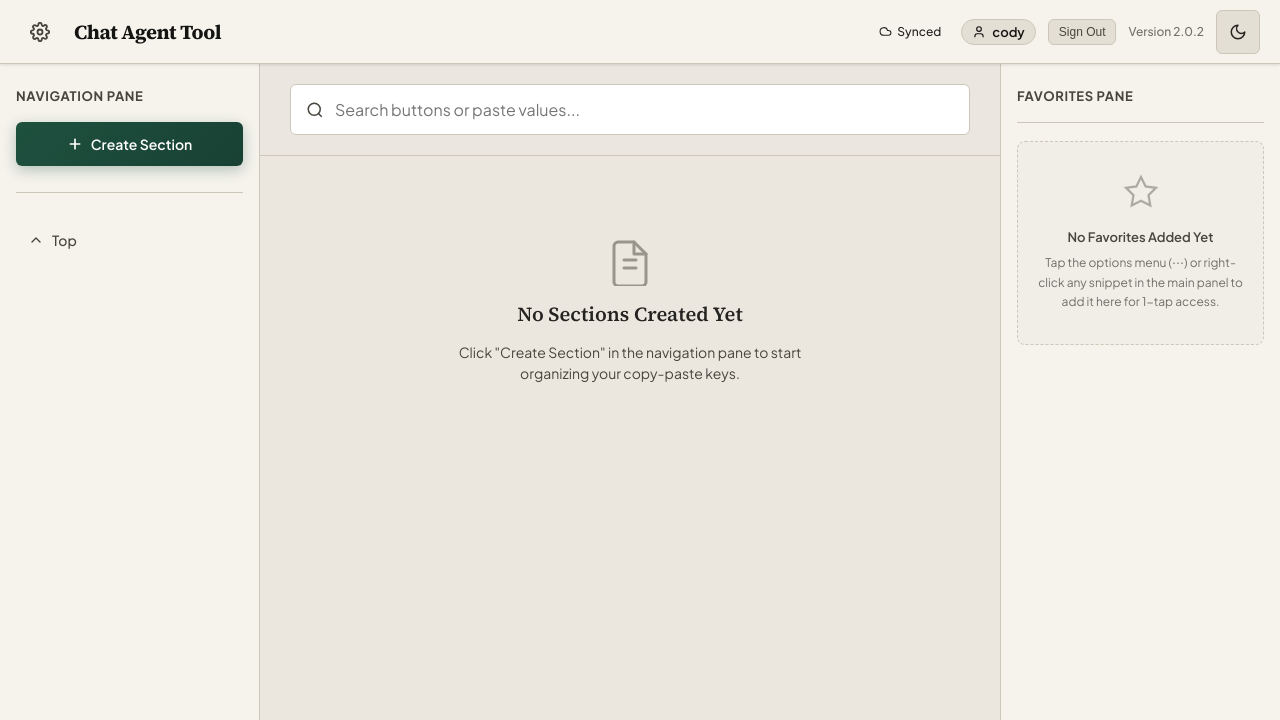
Test: Chat Agent Tool - Integration Tests › adds a new button to a section
Note: Create a section first
Click the button "Create Section": click(130, 144) [16,122,243,166]
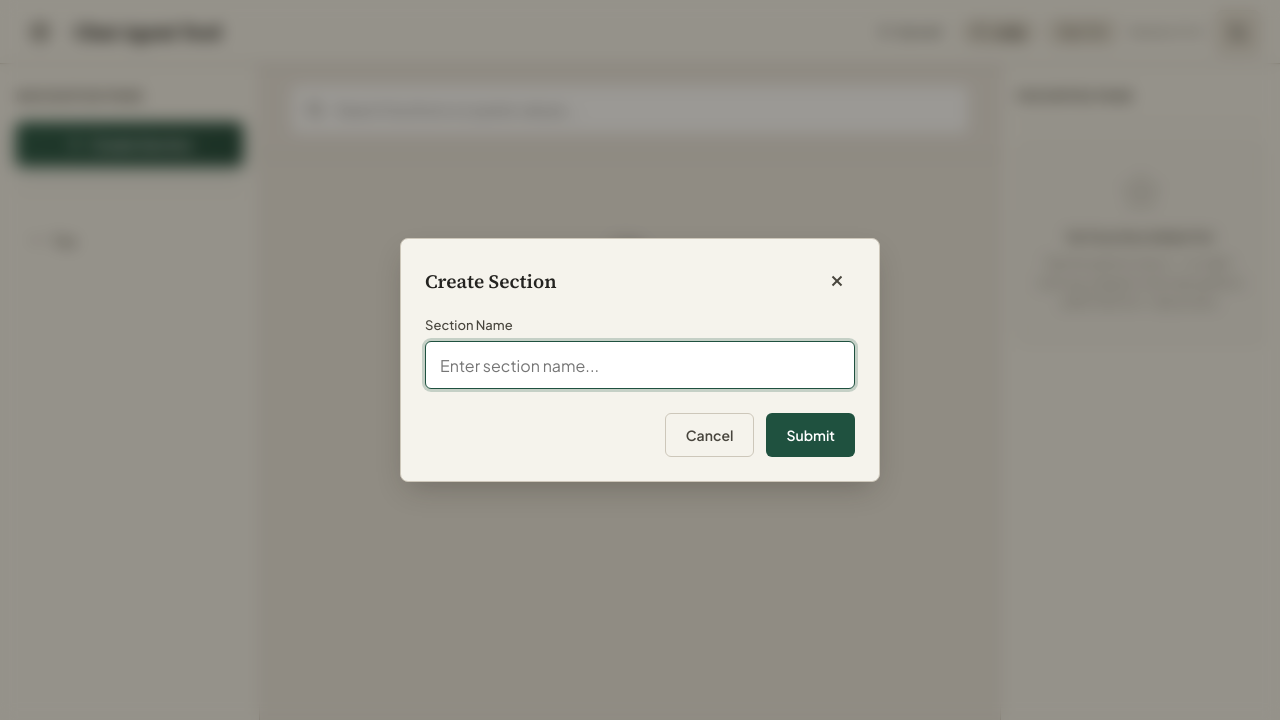
In the field labelled "Section Name": (640, 365) [425,341,855,389], type "Greetings"
Click the button "Submit": click(811, 435) [766,413,855,457]
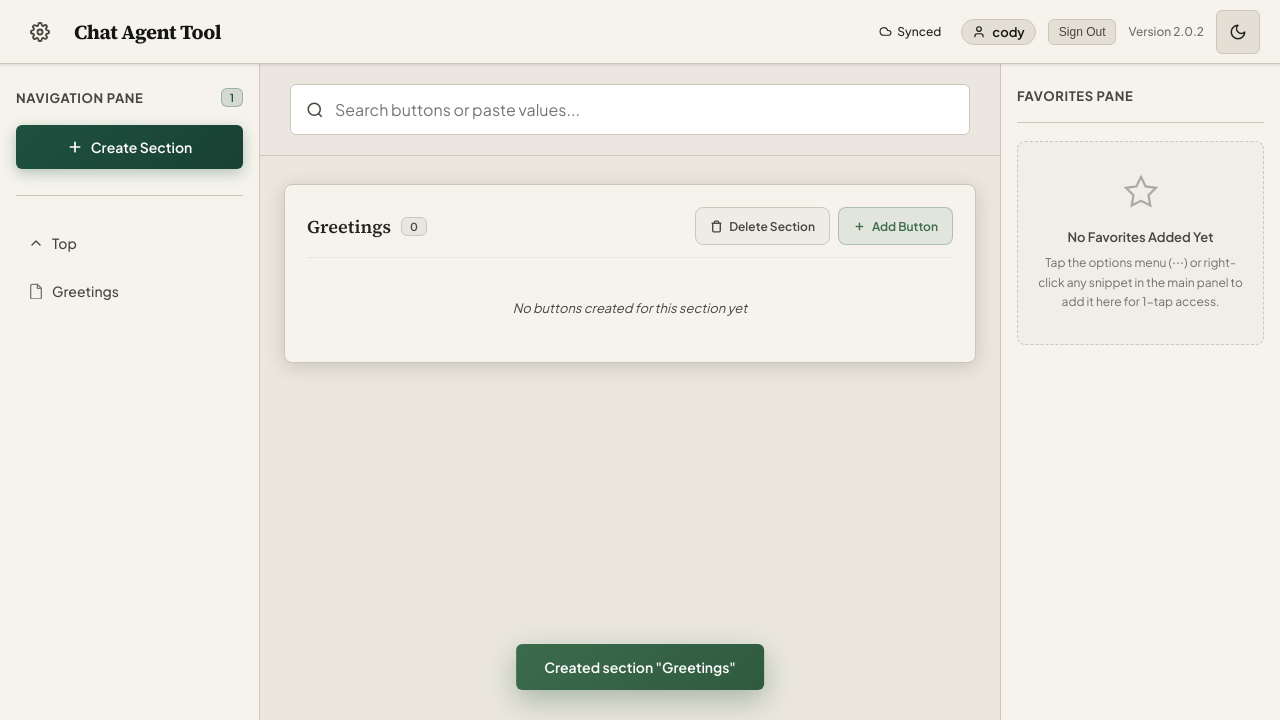
Note: Verify section exists and click "Add Button" inside section
Click the button "Add Button": click(895, 226) [838,207,953,245]
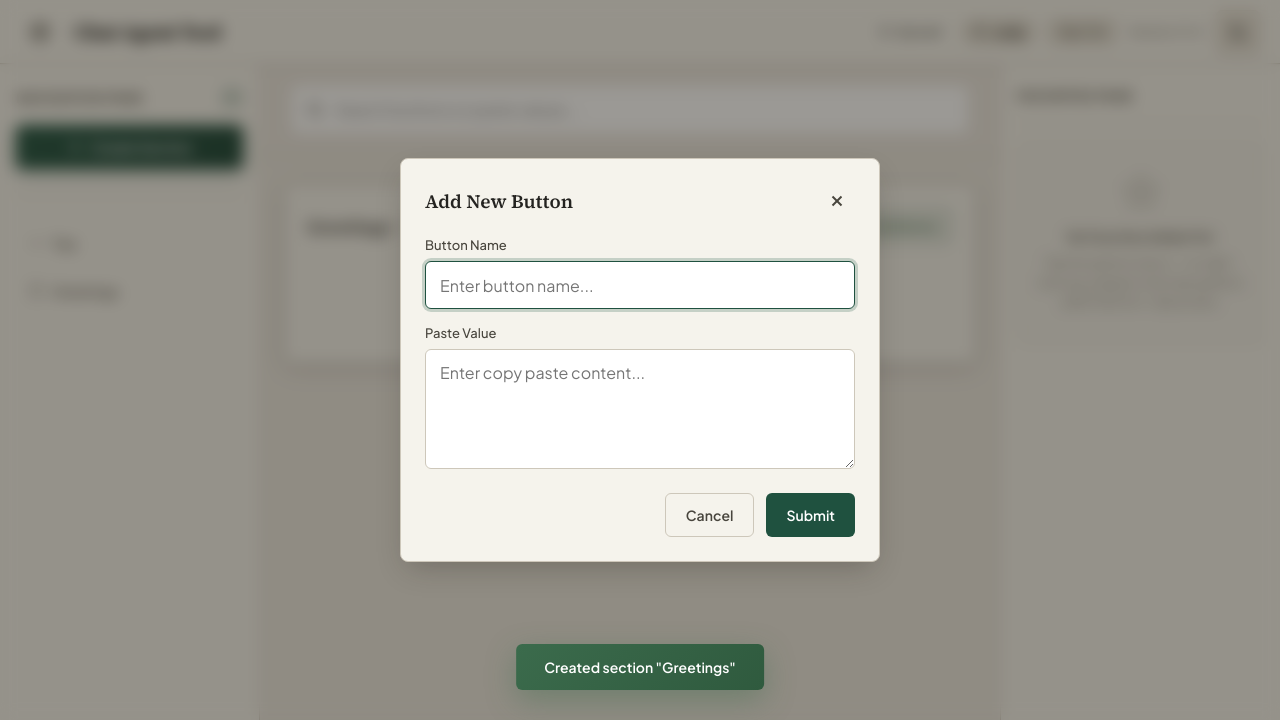
Note: Fill in button details
In the field labelled "Button Name": (640, 285) [425,261,855,309], type "Welcome Message"
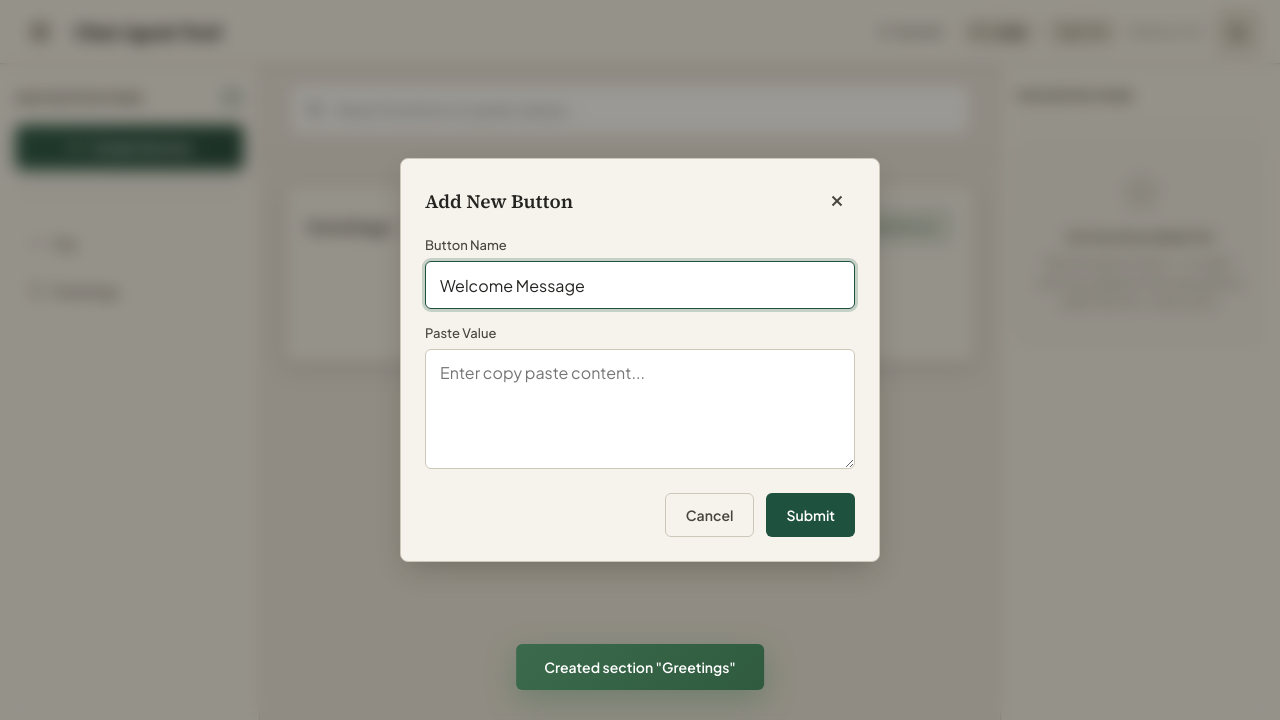
In the text box labelled "Paste Value": (640, 409) [425,349,855,469], type "Hello! Thank you for contacting customer support."
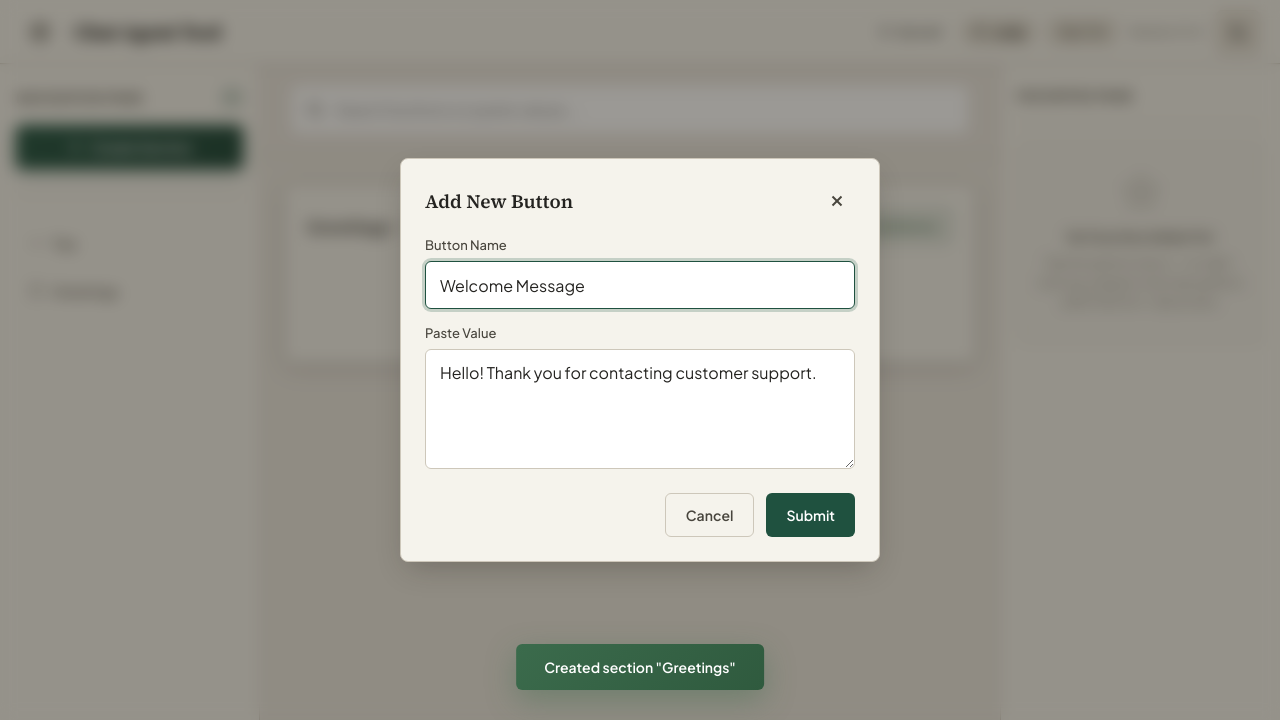
Note: Submit button form
Click the button "Submit": click(811, 515) [766,493,855,537]
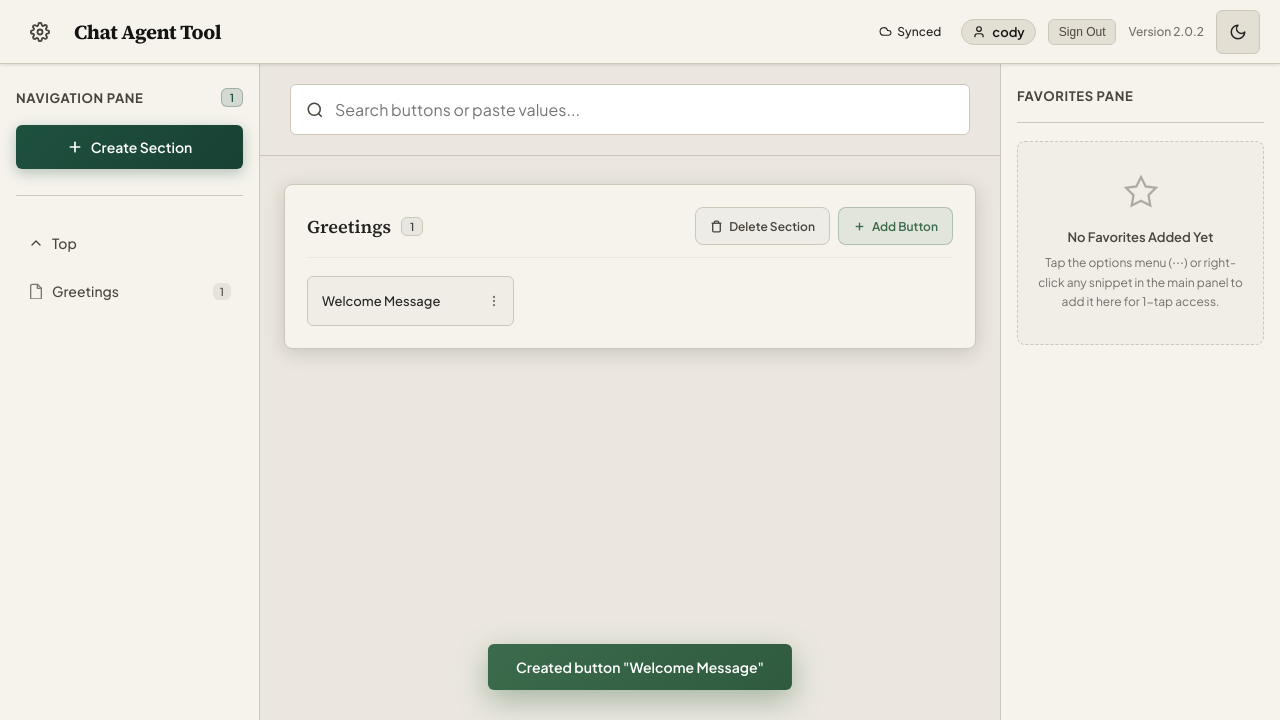
Now the button "Welcome Message" is shown, box [308,277,475,325]
